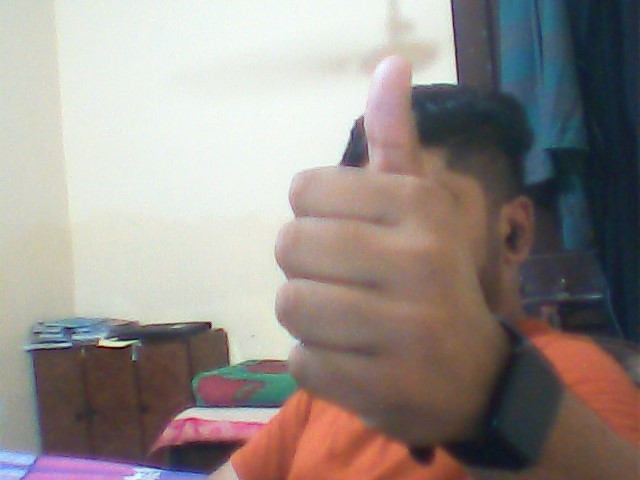Thanks: (264, 52, 555, 452)
